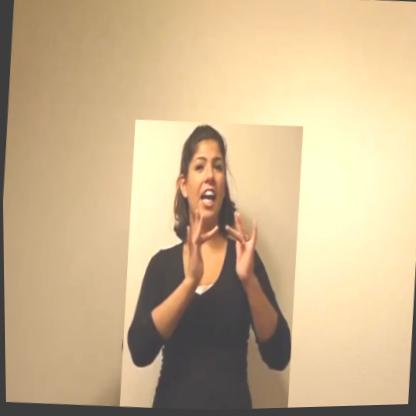Internet: (115, 116, 307, 413)
